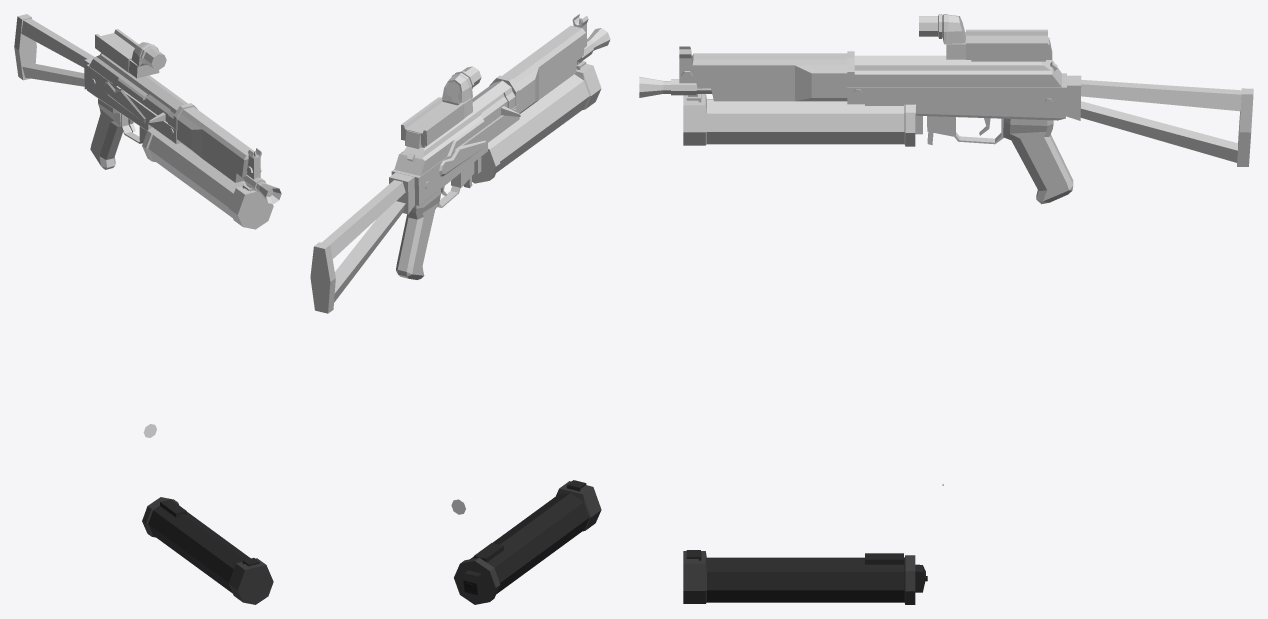
The model's file is Bizon_Gun.glb.
3 renders of one model, left to right at view 1: azimuth 30°, elevation 25°; view 2: azimuth 150°, elevation 25°; view 3: azimuth 270°, elevation 25°, orthographic. The views are drawn at different scales.
Parts seen in each view (by area): view 1: BizonLowPoly, BizonMagazine; view 2: BizonLowPoly, BizonMagazine; view 3: BizonLowPoly, BizonMagazine.
Part boxes in pixels (<box>): BizonLowPoly: <box>14,14,281,229</box>; BizonMagazine: <box>142,497,273,604</box>; BizonLowPoly: <box>310,14,610,313</box>; BizonMagazine: <box>454,480,601,604</box>; BizonLowPoly: <box>639,14,1253,204</box>; BizonMagazine: <box>683,550,927,604</box>.
Bounding box in the file's own units: 0.0757 × 0.7719 × 0.7285.
Materials: 4 (1 with a texture image).
